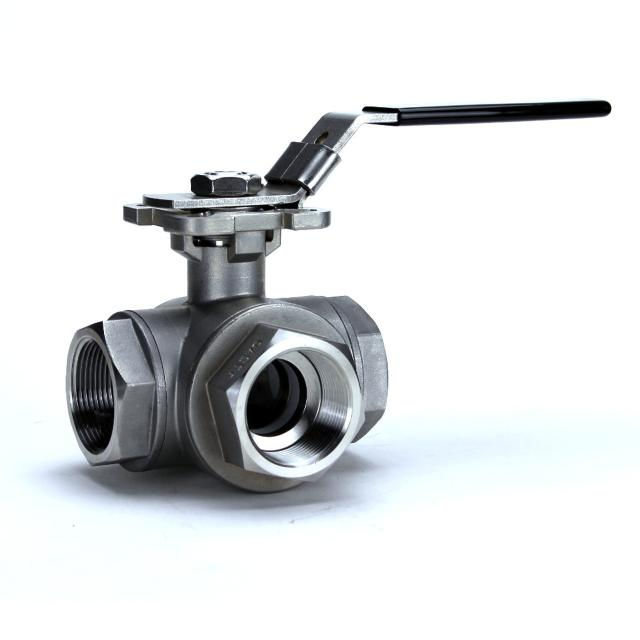Lever Handle Valve Threaded: (99, 68, 620, 322)
